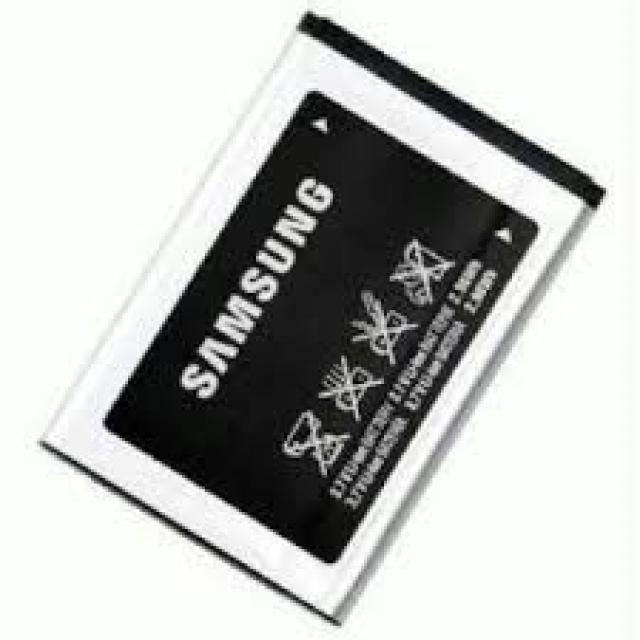non-organic waste: (43, 14, 612, 628)
